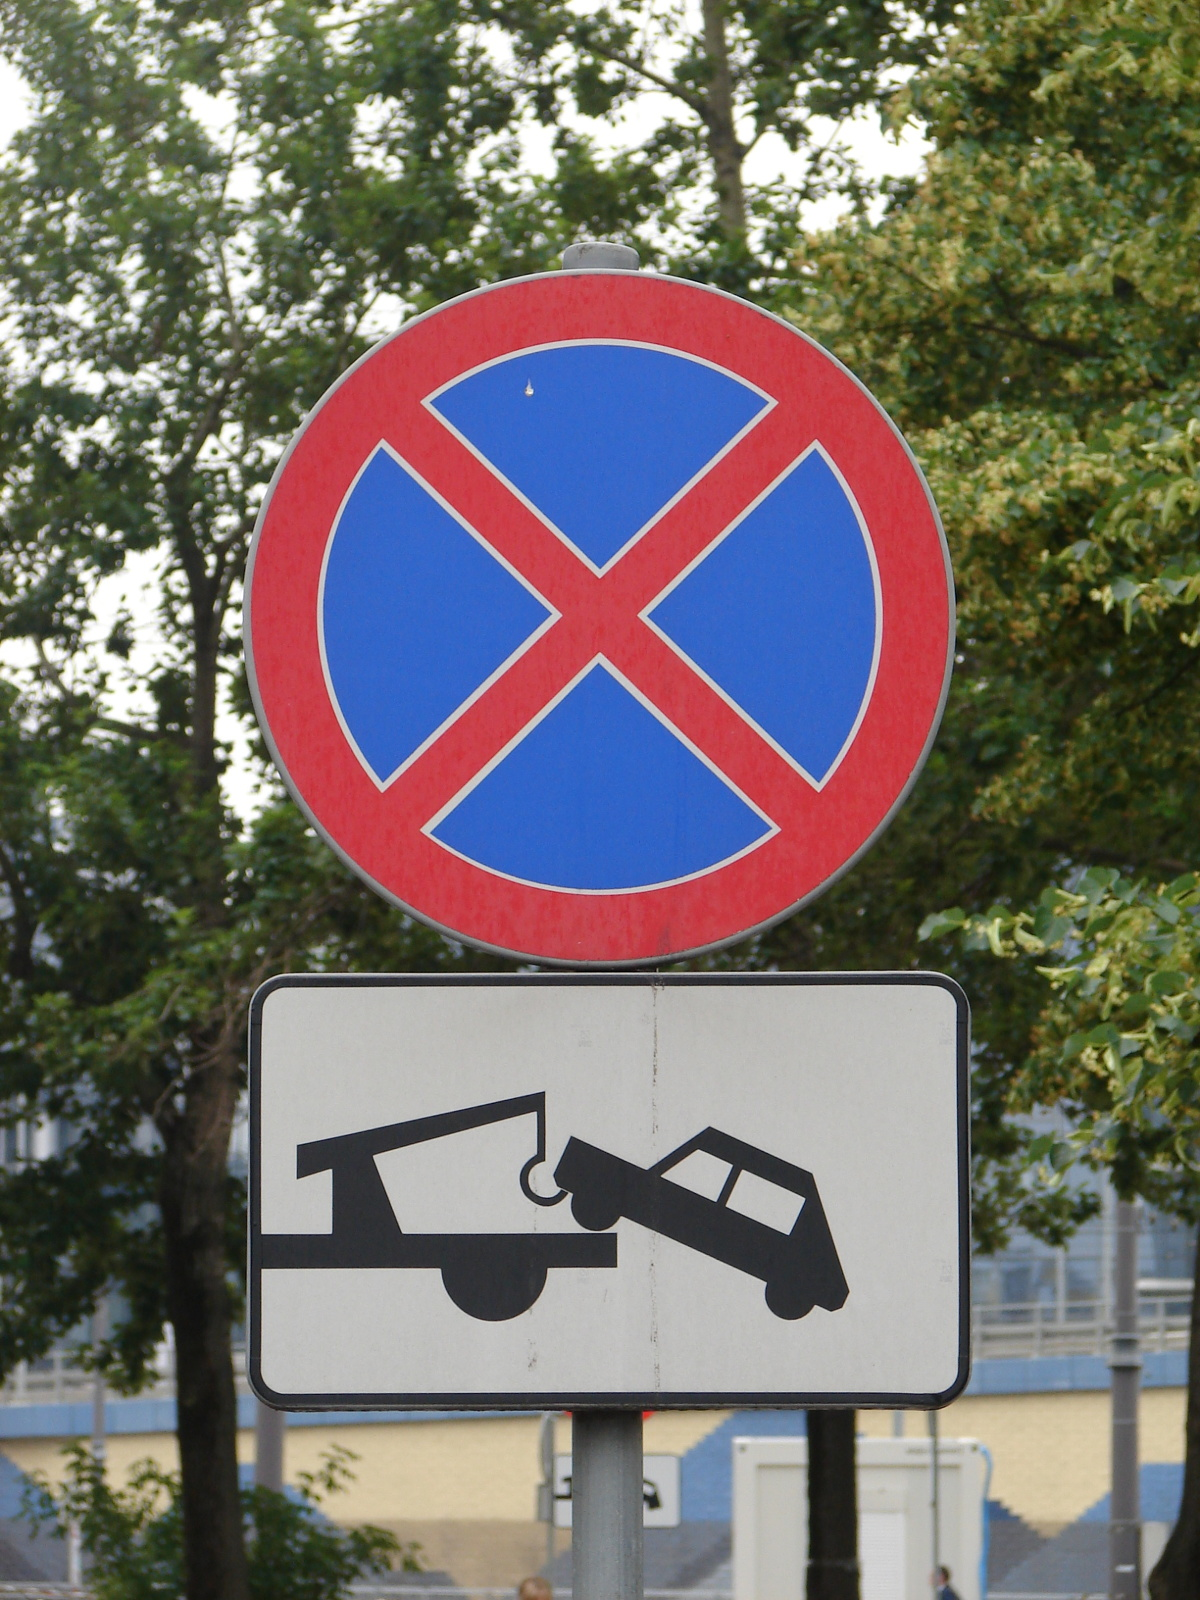no_stopping_sign: (238, 266, 962, 969)
